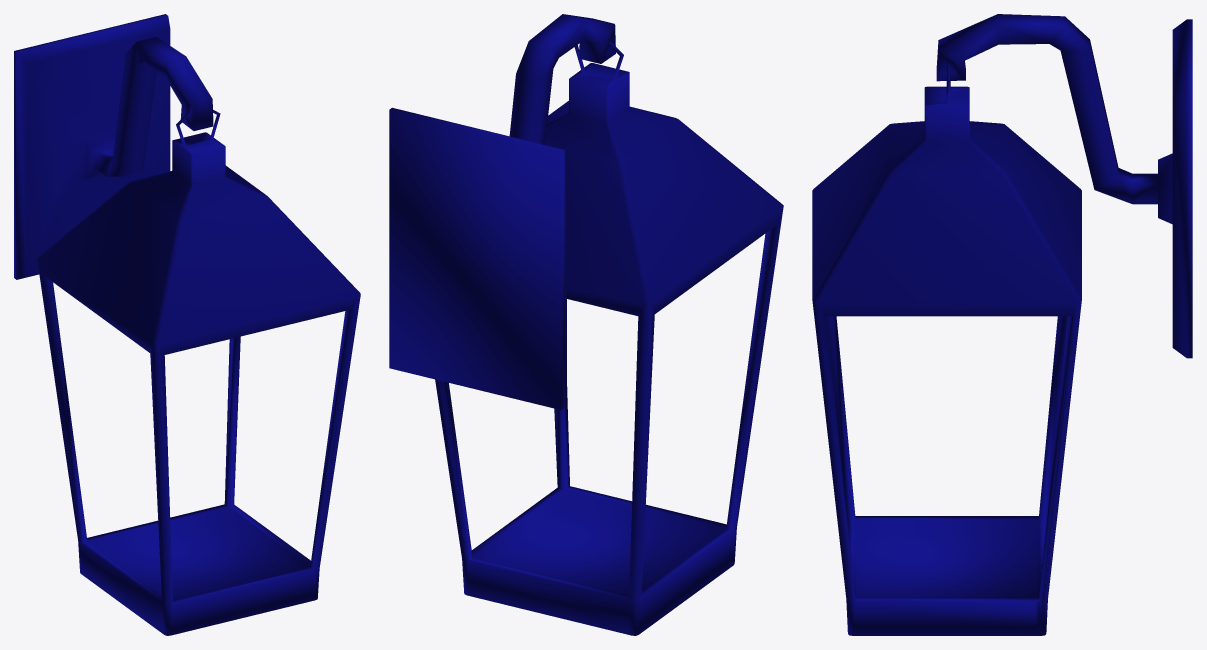
The model's file is LANTERN.fbx.
3 renders of one model, left to right at view 1: azimuth 30°, elevation 25°; view 2: azimuth 150°, elevation 25°; view 3: azimuth 270°, elevation 25°, orthographic. The views are drawn at different scales.
Parts seen in each view (by area): view 1: Box001; view 2: Box001; view 3: Box001.
Boxes of the visible parts, x1,y1,x2,y2 form: Box001: [14, 14, 360, 635]; Box001: [389, 14, 783, 635]; Box001: [812, 14, 1192, 635].
Bounding box in the file's own units: 113 × 266 × 159.
